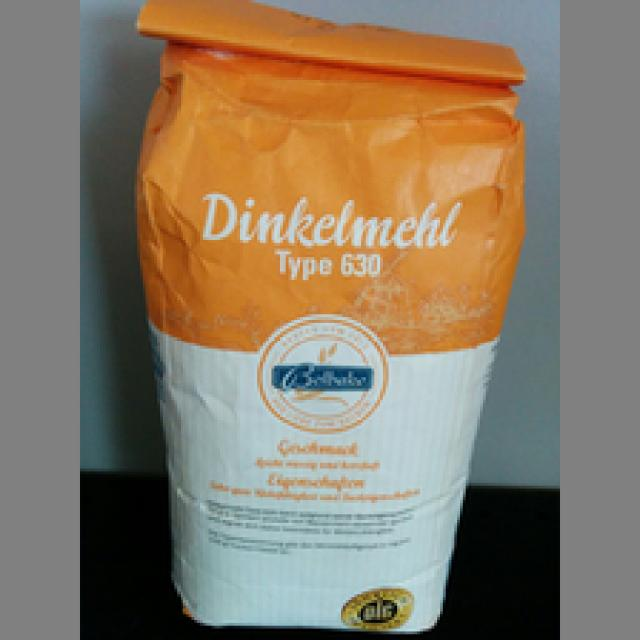groceries: (131, 0, 526, 637)
